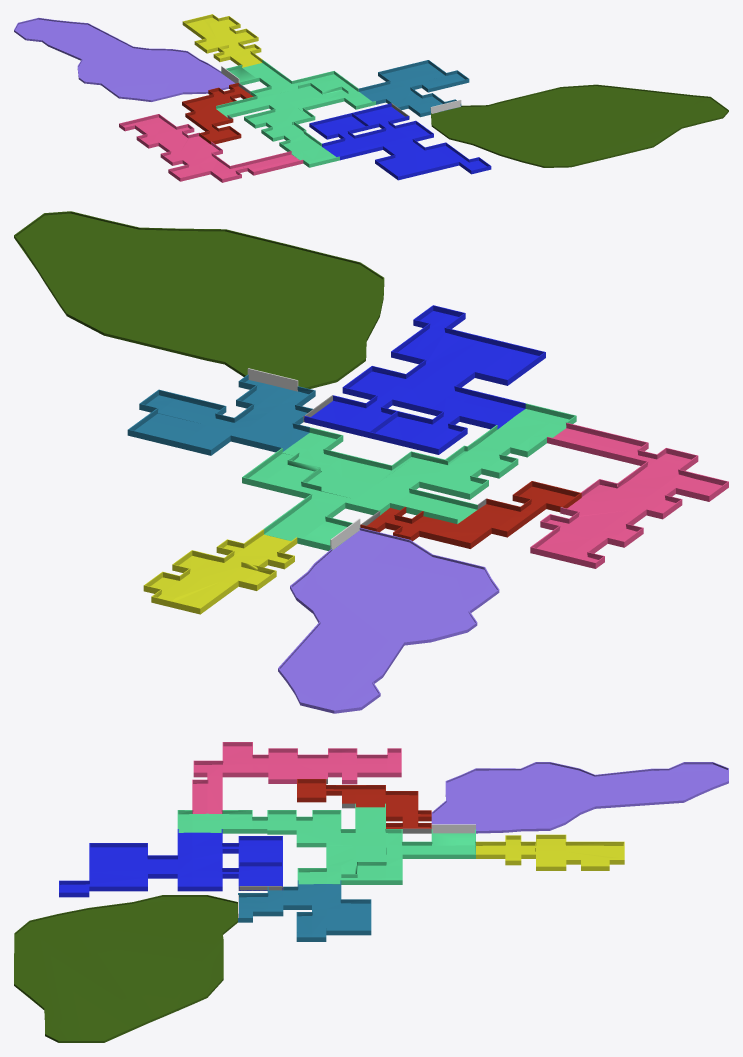
File: NivelModel2.FBX
3 renders of one model, top to bottom at view 1: azimuth 30°, elevation 25°; view 2: azimuth 150°, elevation 25°; view 3: azimuth 270°, elevation 25°, orthographic. The views are drawn at different scales.
Parts seen in each view (by area): view 1: Mazmorra, salida, Entrada; view 2: Mazmorra, salida, Entrada; view 3: Mazmorra, salida, Entrada.
Boxes of the visible parts, x1,y1,x2,y2 form: Mazmorra: [119, 14, 491, 182]; salida: [431, 84, 728, 167]; Entrada: [14, 17, 235, 101]; Mazmorra: [127, 305, 728, 614]; salida: [14, 211, 384, 388]; Entrada: [278, 527, 499, 713]; Mazmorra: [59, 742, 624, 941]; salida: [14, 895, 237, 1042]; Entrada: [431, 762, 728, 833].
Bounding box in the file's own units: 702 × 10.8 × 716.
